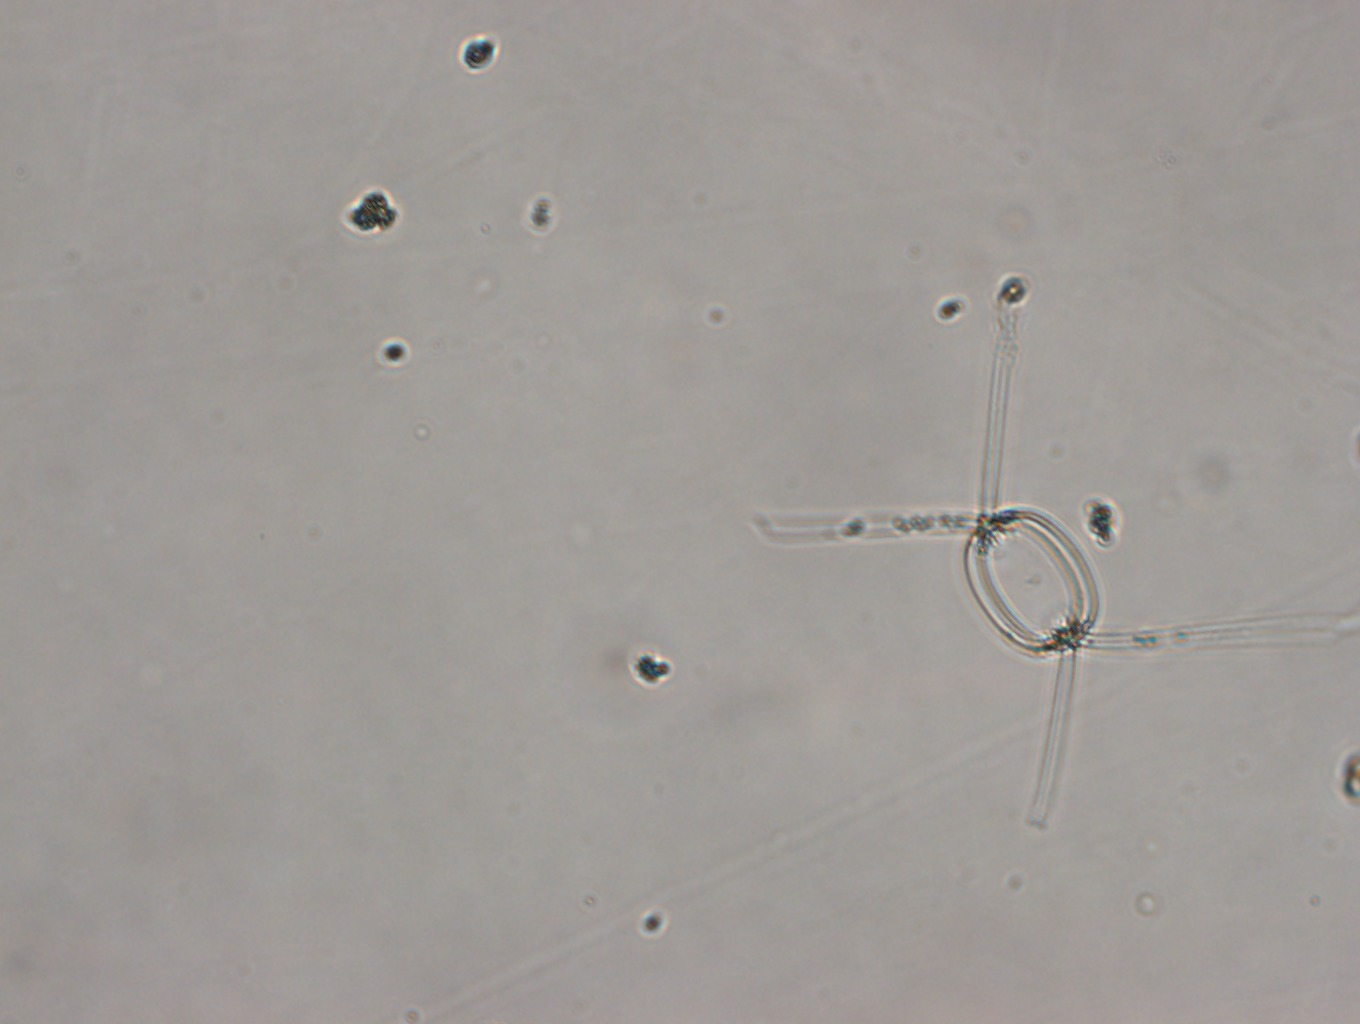chaetoceros: (758, 345, 1188, 836)
